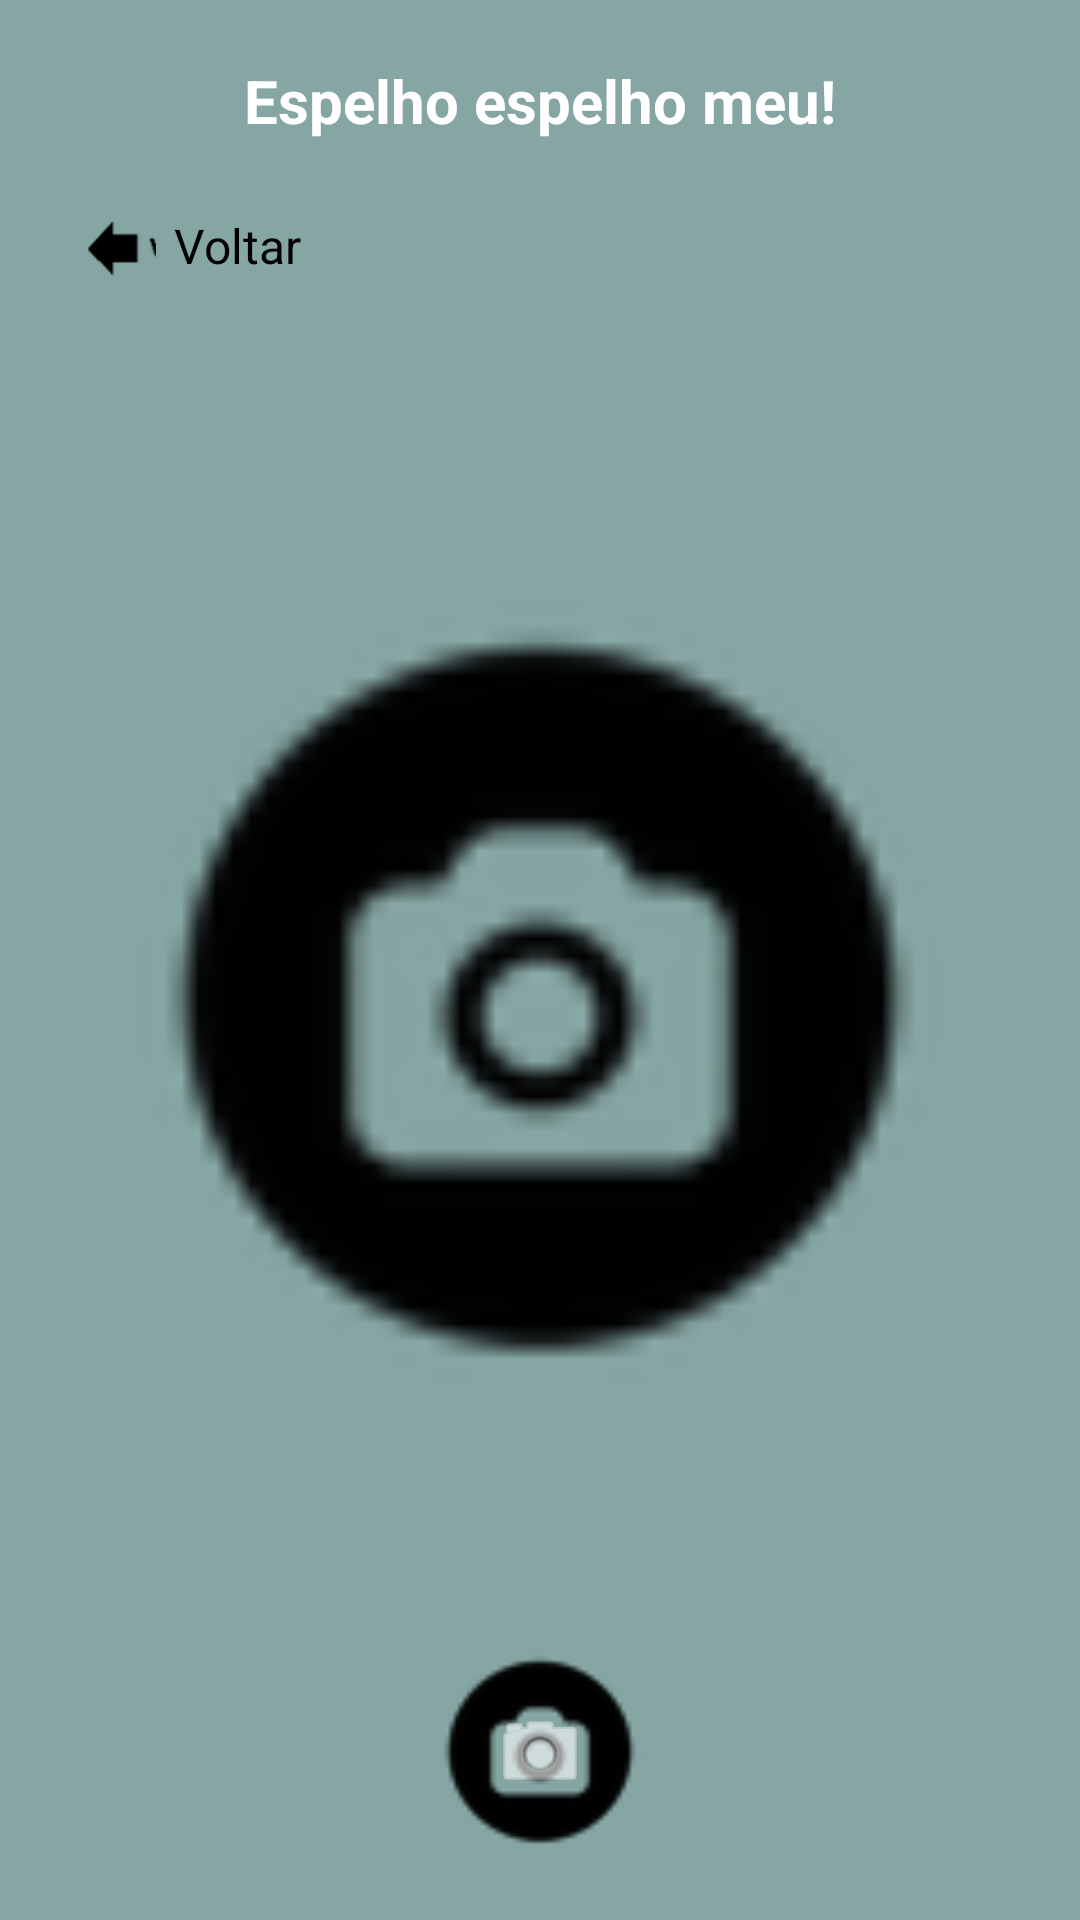

Icon bounding boxes for this 1080*1920 phone screenshot, format (x1, y1, x2, y2):
Capturar foto: (445, 1660, 634, 1843)
